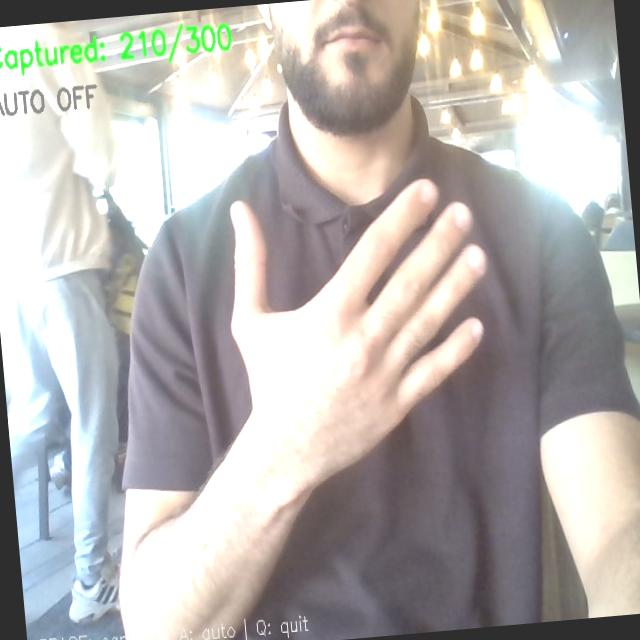Hand: (231, 181, 485, 488)
